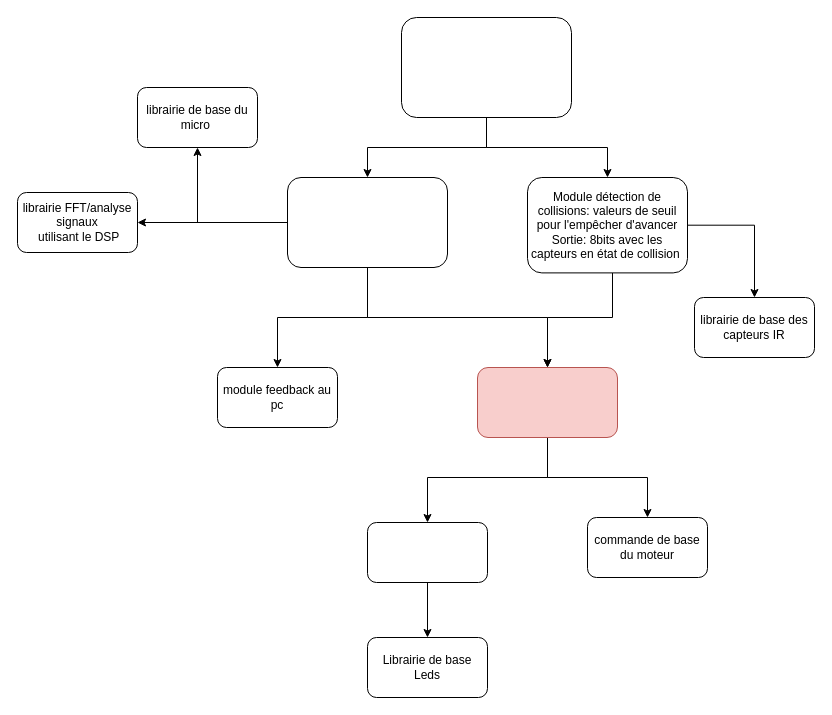
The diagram is 832 pixels wide and 715 high, and some of its shapes have lost their labels. The centre of each missing label's shape, as x and y in pixels:
Affichage Led qui gère des animations "complexes": [427,552]
Main : fonctions d'initialisation, idle thread: [486,67]
Module Son: récupère et analyse les fréquences Sortie: note captée: [367,222]
Module séquences/commande du mouvement: [547,402]
